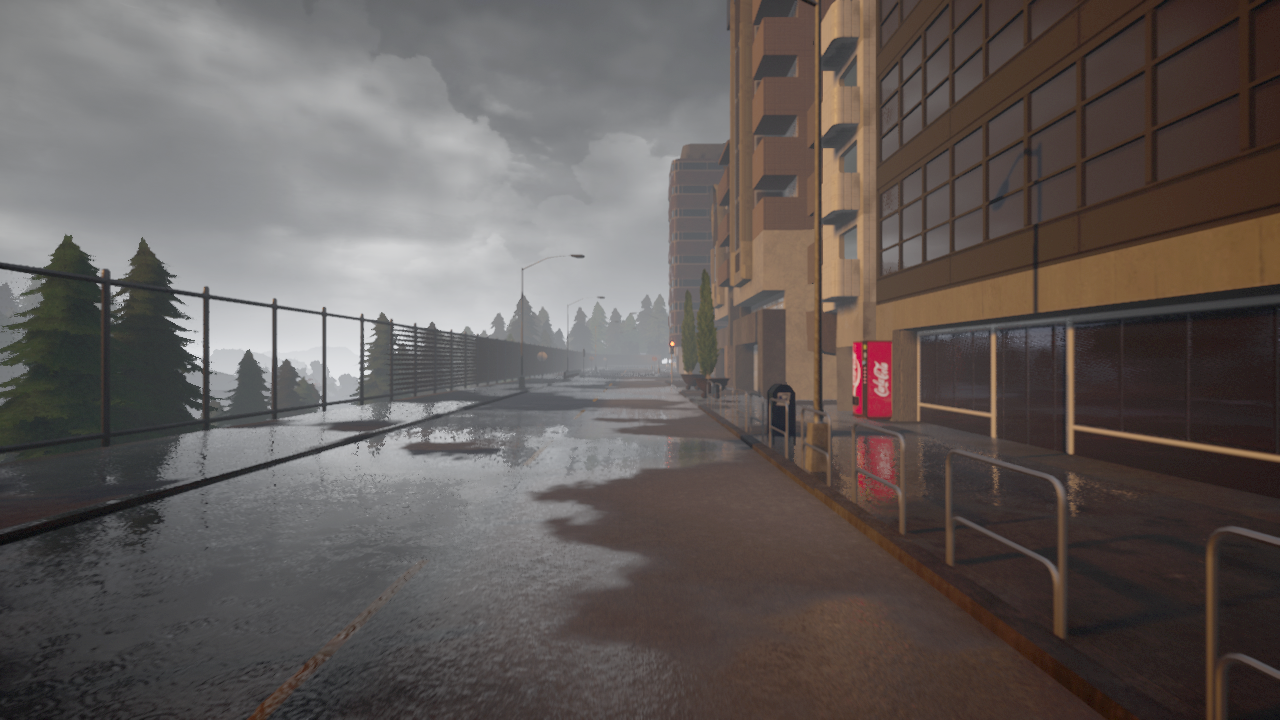red: (668, 340, 674, 354)
